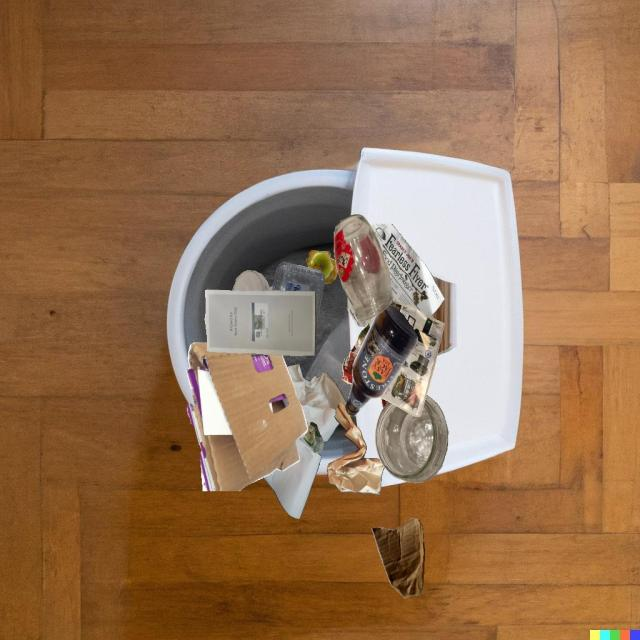biowaste: (306, 250, 337, 284)
cardboard: (186, 342, 308, 491), (372, 519, 425, 598)
glass: (345, 305, 418, 416), (375, 395, 448, 483), (334, 214, 393, 322), (232, 270, 273, 291), (381, 398, 389, 408)
paper: (379, 299, 445, 417), (205, 289, 317, 356), (372, 224, 445, 317), (327, 403, 385, 495), (263, 435, 321, 519), (287, 364, 346, 442)
plastic: (272, 262, 325, 322), (303, 422, 324, 453)
